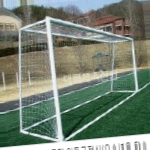goals: (16, 13, 139, 140)
